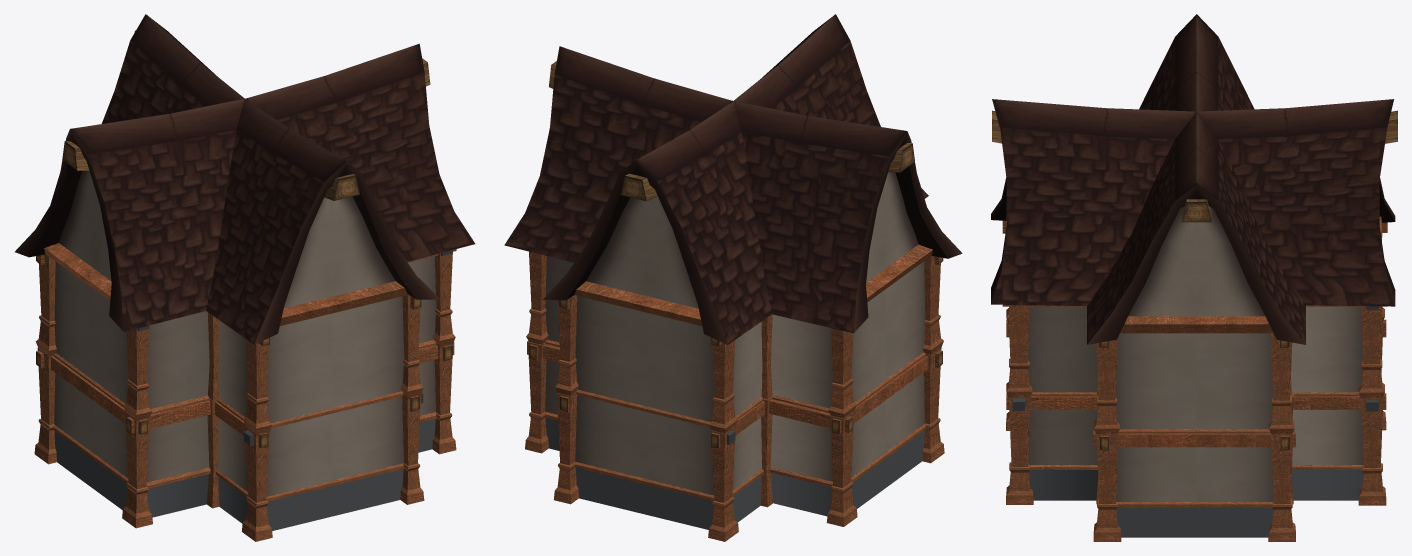
Rendered from fanasty_mod_S2_X_house.fbx.
The picture shows the model from 3 angles, left to right: view 1: azimuth 30°, elevation 25°; view 2: azimuth 150°, elevation 25°; view 3: azimuth 270°, elevation 25°; orthographic projection.
Visible parts, largest first — view 1: s2_X_house; view 2: s2_X_house; view 3: s2_X_house.
Boxes of the visible parts, x1,y1,x2,y2 form: s2_X_house: (15,14,475,541); s2_X_house: (504,14,962,541); s2_X_house: (991,14,1397,541).
Size of the model in its own units: 12.64 by 12.47 by 12.61.
